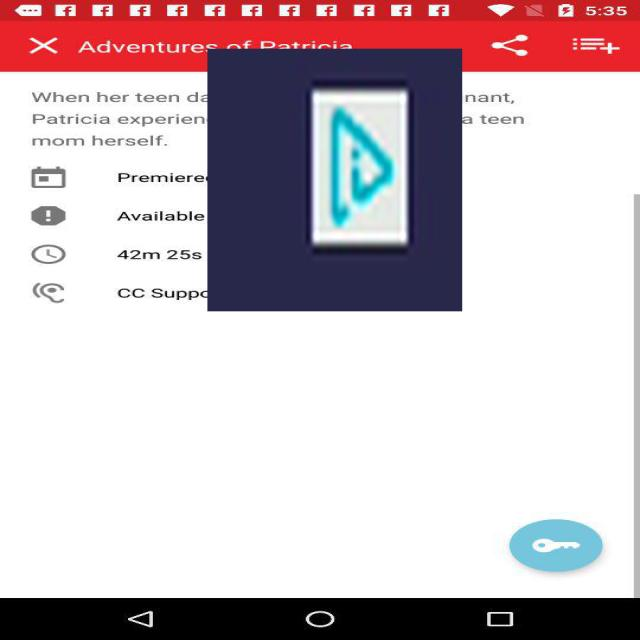sneaking: (208, 49, 462, 311)
